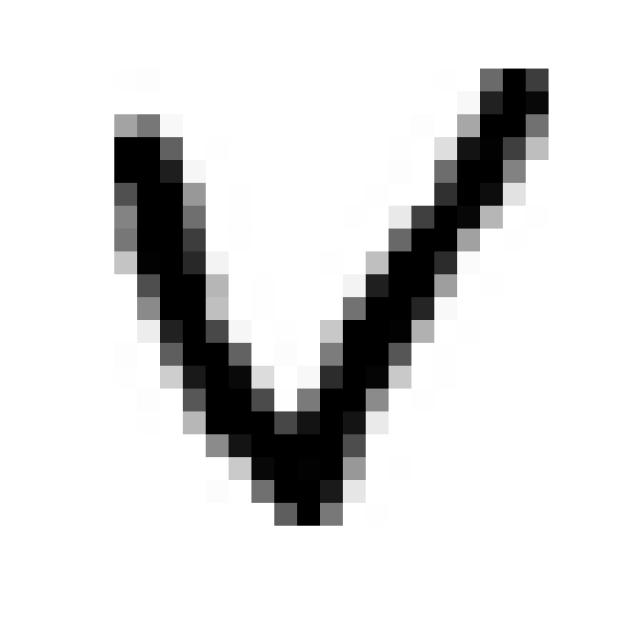7 -seven-: (96, 53, 561, 533)
